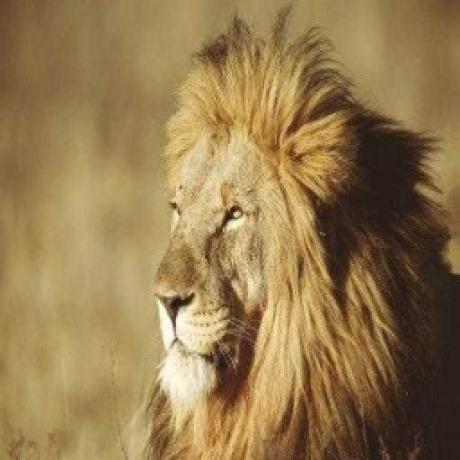Lion: (140, 12, 460, 460)
